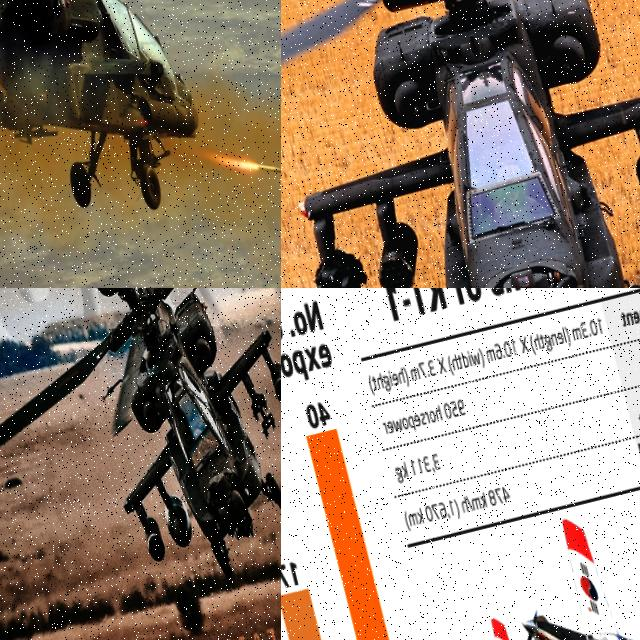Apache: (281, 0, 640, 288), (0, 288, 281, 640), (0, 0, 281, 286)
KT-1: (496, 482, 640, 640), (442, 579, 629, 640)
